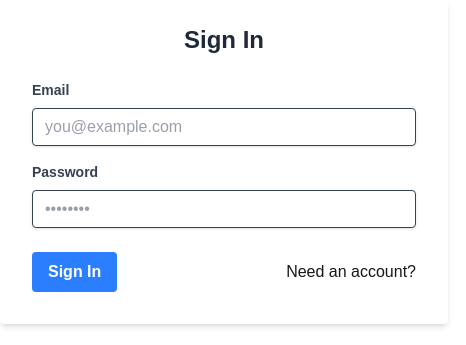
LoginForm › Loading State › disables button and shows loading text during submission
In the field labelled "Email": (224, 127) [32, 108, 416, 146], type "test@example.com"
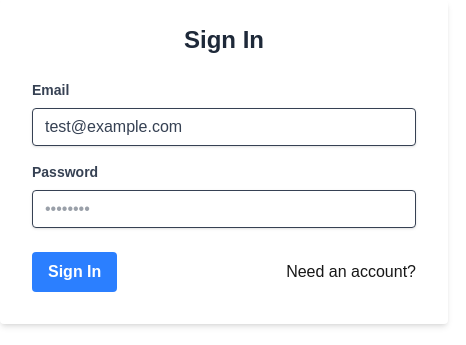
In the password field labelled "Password": (224, 209) [32, 190, 416, 228], type "password123"
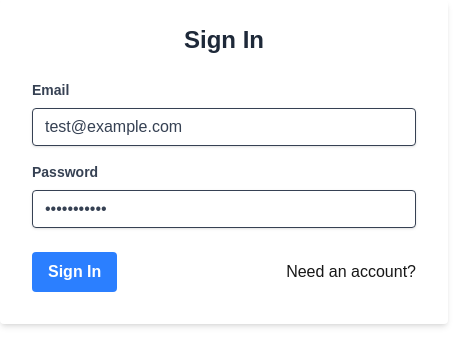
Click the button "Sign In": (75, 272) [32, 252, 117, 292]
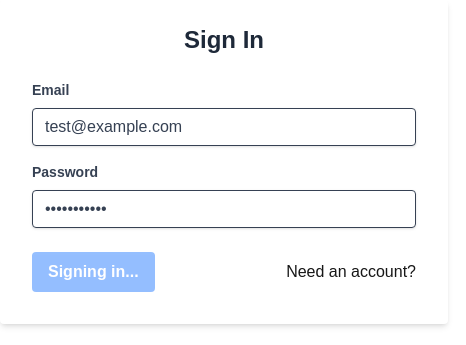
Check: the button "Signing in..." is disabled, box [32, 252, 155, 292]
Check: the button "Signing in..." is shown, box [32, 252, 155, 292]
